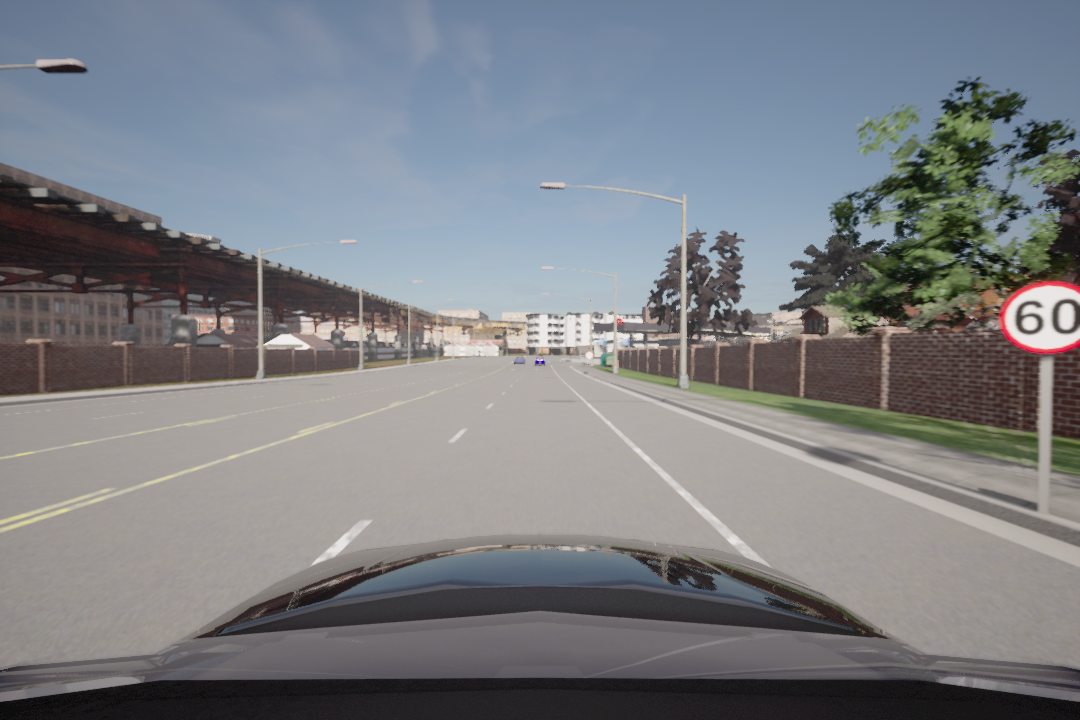TrafficSign_speed: (999, 279, 1080, 354)
